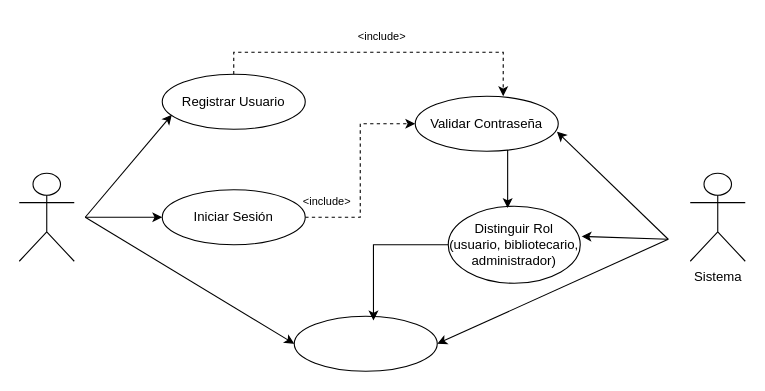
This 765x391 diagram has some shape labels left out. Each missing label, with the centre of its shape:
"Ingreso" belongs at point 365,343.
"Usuario" belongs at point 46,216.
